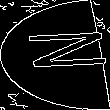N_E: (5, 33, 105, 77)
